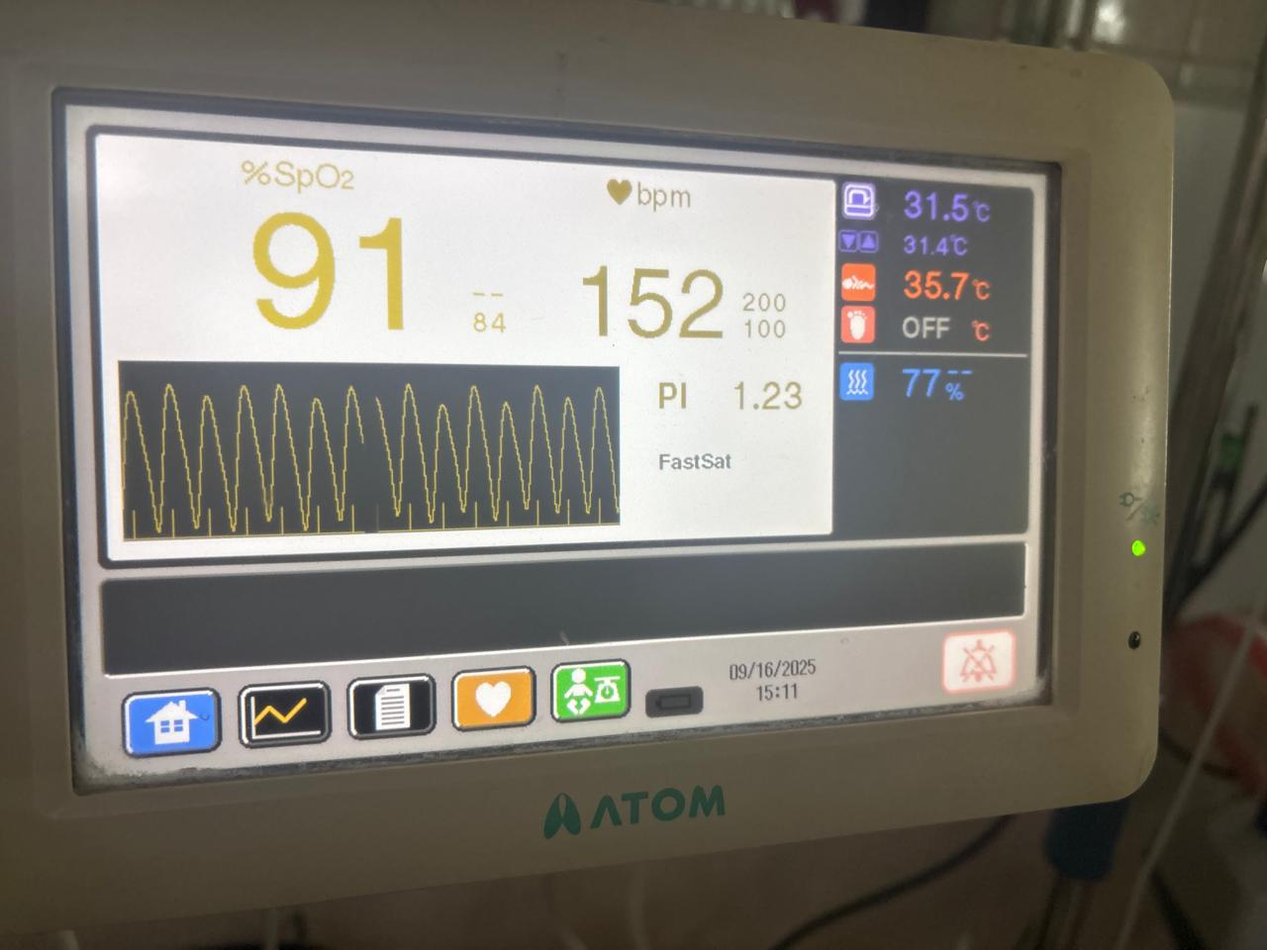air_temp_value: (887, 176, 981, 240)
heart_rate_value: (577, 250, 734, 349)
humidity_value: (893, 355, 946, 412)
skin_temp_value: (895, 258, 973, 310)
spo2_value: (232, 195, 432, 342)
